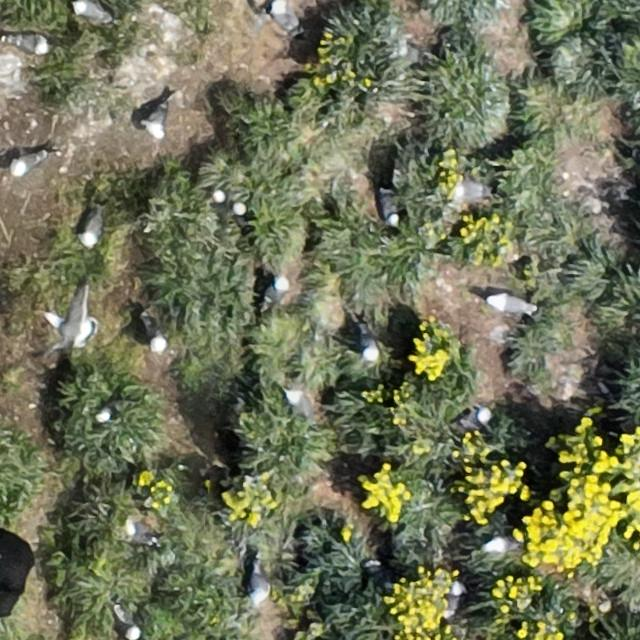F: (48, 291, 96, 351)
umineko: (482, 534, 522, 560), (489, 295, 529, 314), (250, 567, 270, 604), (10, 35, 48, 54), (270, 5, 295, 32), (263, 278, 287, 306), (82, 214, 103, 246), (74, 2, 107, 22), (12, 154, 42, 175), (360, 328, 379, 361), (288, 392, 314, 416), (148, 106, 168, 136), (458, 408, 488, 428), (126, 522, 154, 543), (146, 319, 166, 348), (379, 192, 397, 224), (448, 582, 462, 617), (120, 615, 140, 638), (97, 403, 117, 422)
